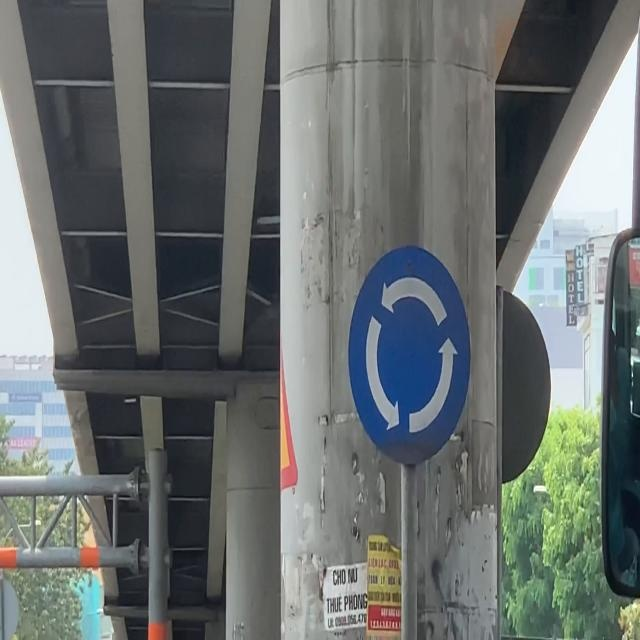bien_chi_dan: (348, 242, 472, 464)
